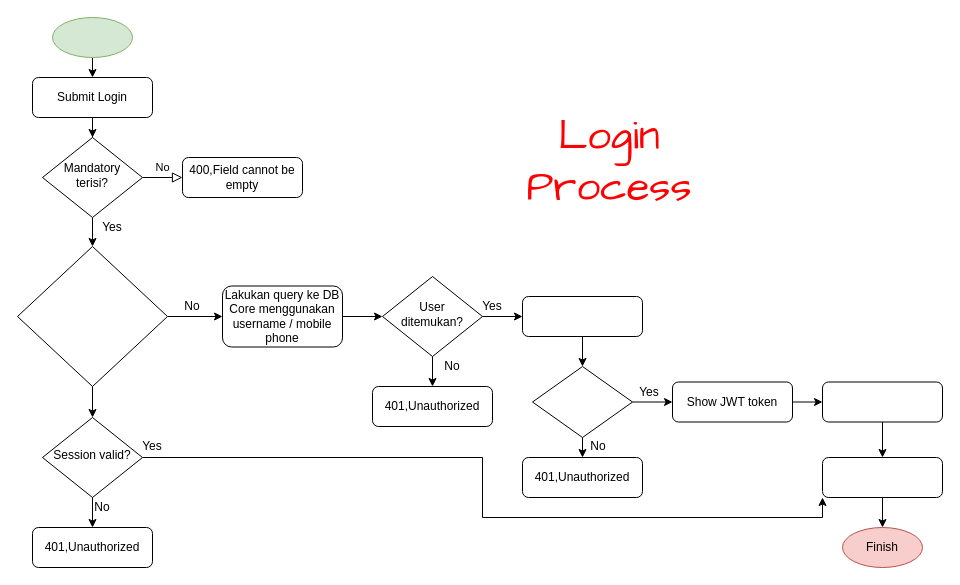
Some shapes in this 960 by 585 pixel diagram are drawn without their labels. Here are the shapes that lost their labels. From the top down, the box of each, then its label:
(52, 16, 132, 58): Start
(16, 246, 168, 386): Ada Session di Redis (session_c_xxx)
(522, 296, 642, 336): Descrypt password
(532, 366, 632, 438): Password match?
(822, 381, 942, 422): Simpan token di Redis
(822, 456, 942, 498): Simpan creddb di Redis (cred_c_xxx)
